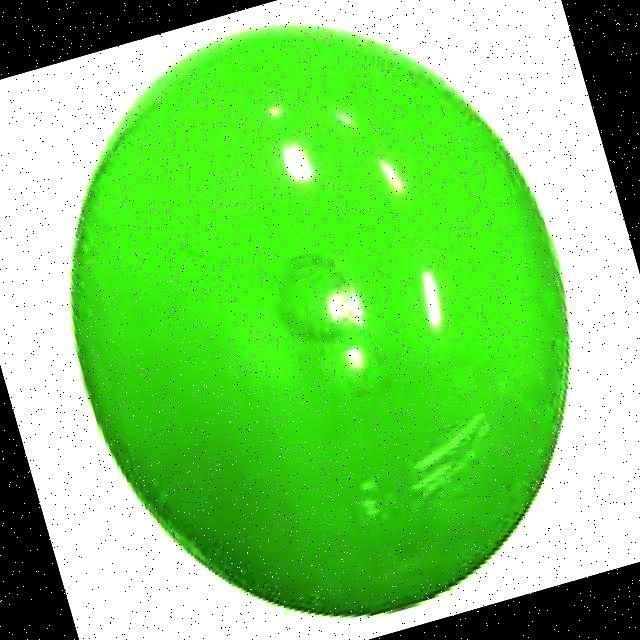Circle: (63, 18, 570, 623)
